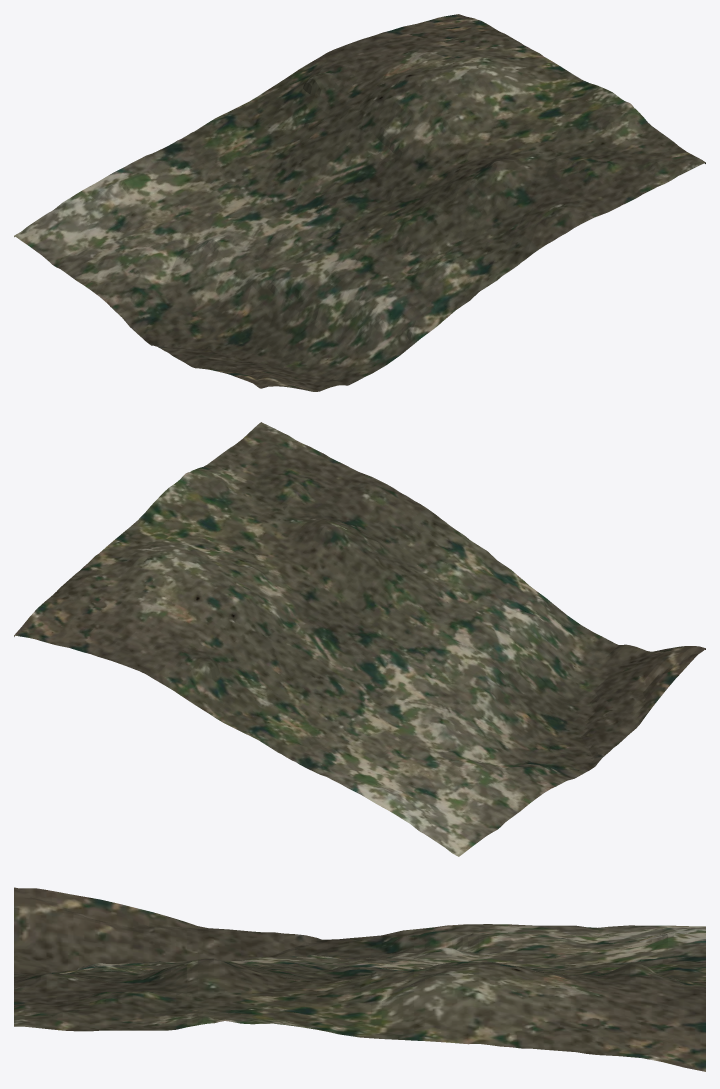
The picture shows the model from 3 angles, top to bottom: view 1: azimuth 30°, elevation 25°; view 2: azimuth 150°, elevation 25°; view 3: azimuth 270°, elevation 25°; orthographic projection. The views are drawn at different scales.
Size of the model in its own units: 250 by 86.34 by 241.
1 material, 1 textured.
